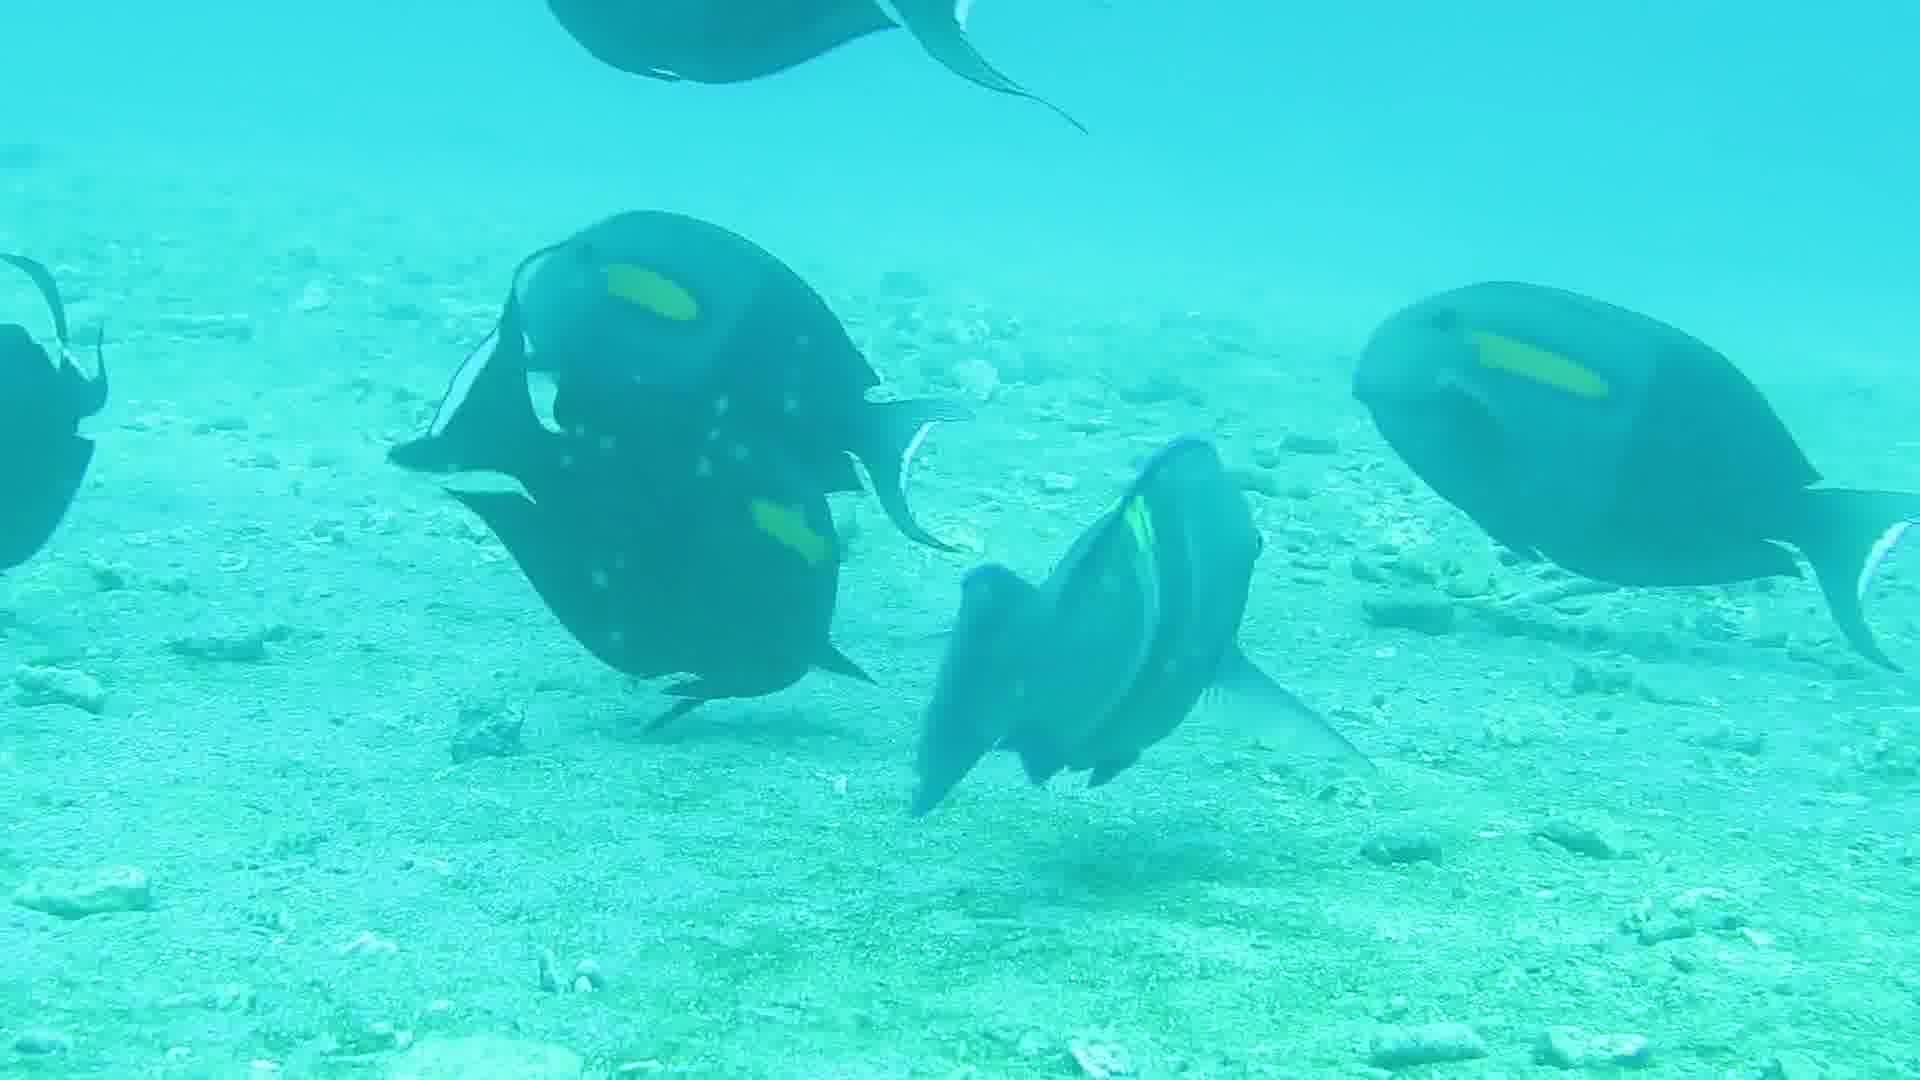Acanthurus olivaceus: (1331, 156, 1920, 702), (909, 389, 1308, 884), (469, 392, 833, 727), (526, 193, 928, 436), (1, 276, 113, 611)
